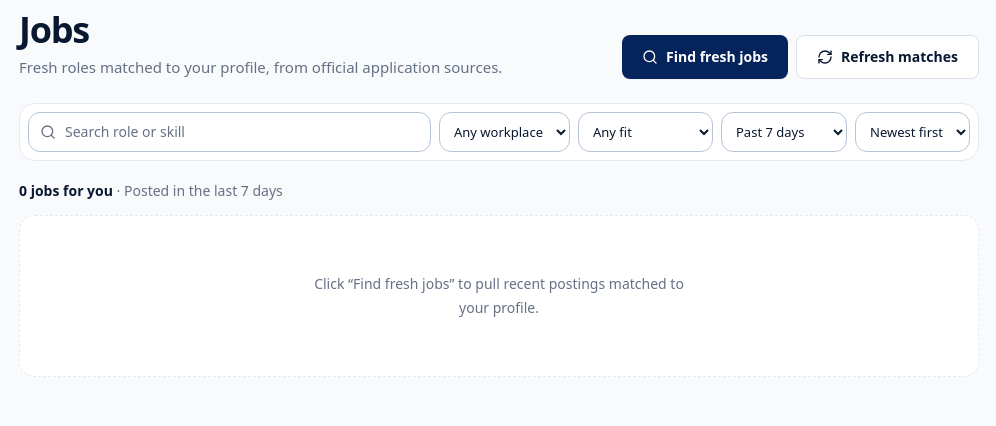
Test case: JobDiscovery › shows the filtered empty state when nothing is eligible
Step 1. Click the button "Find fresh jobs" → (705, 56), box [622,34,788,78]
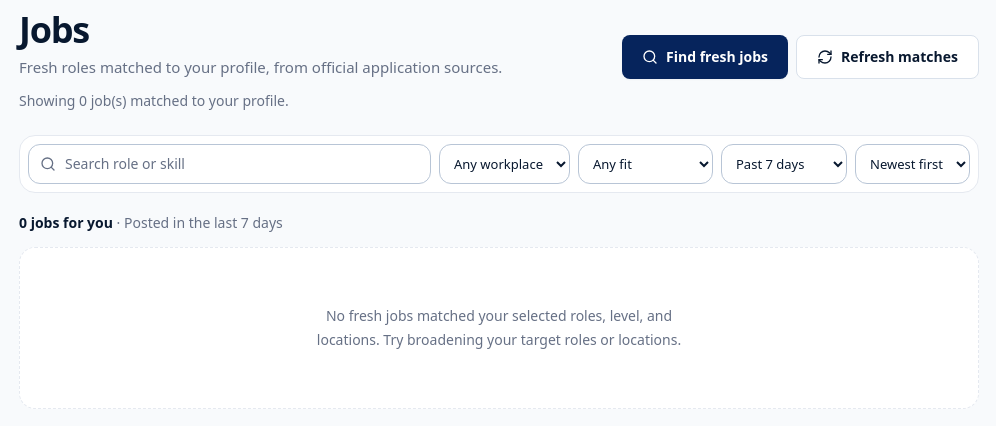
Now the text "No fresh jobs matched your selected roles, level, and locations. Try broadening your target roles or locations." is shown, box [317,306,681,348]
